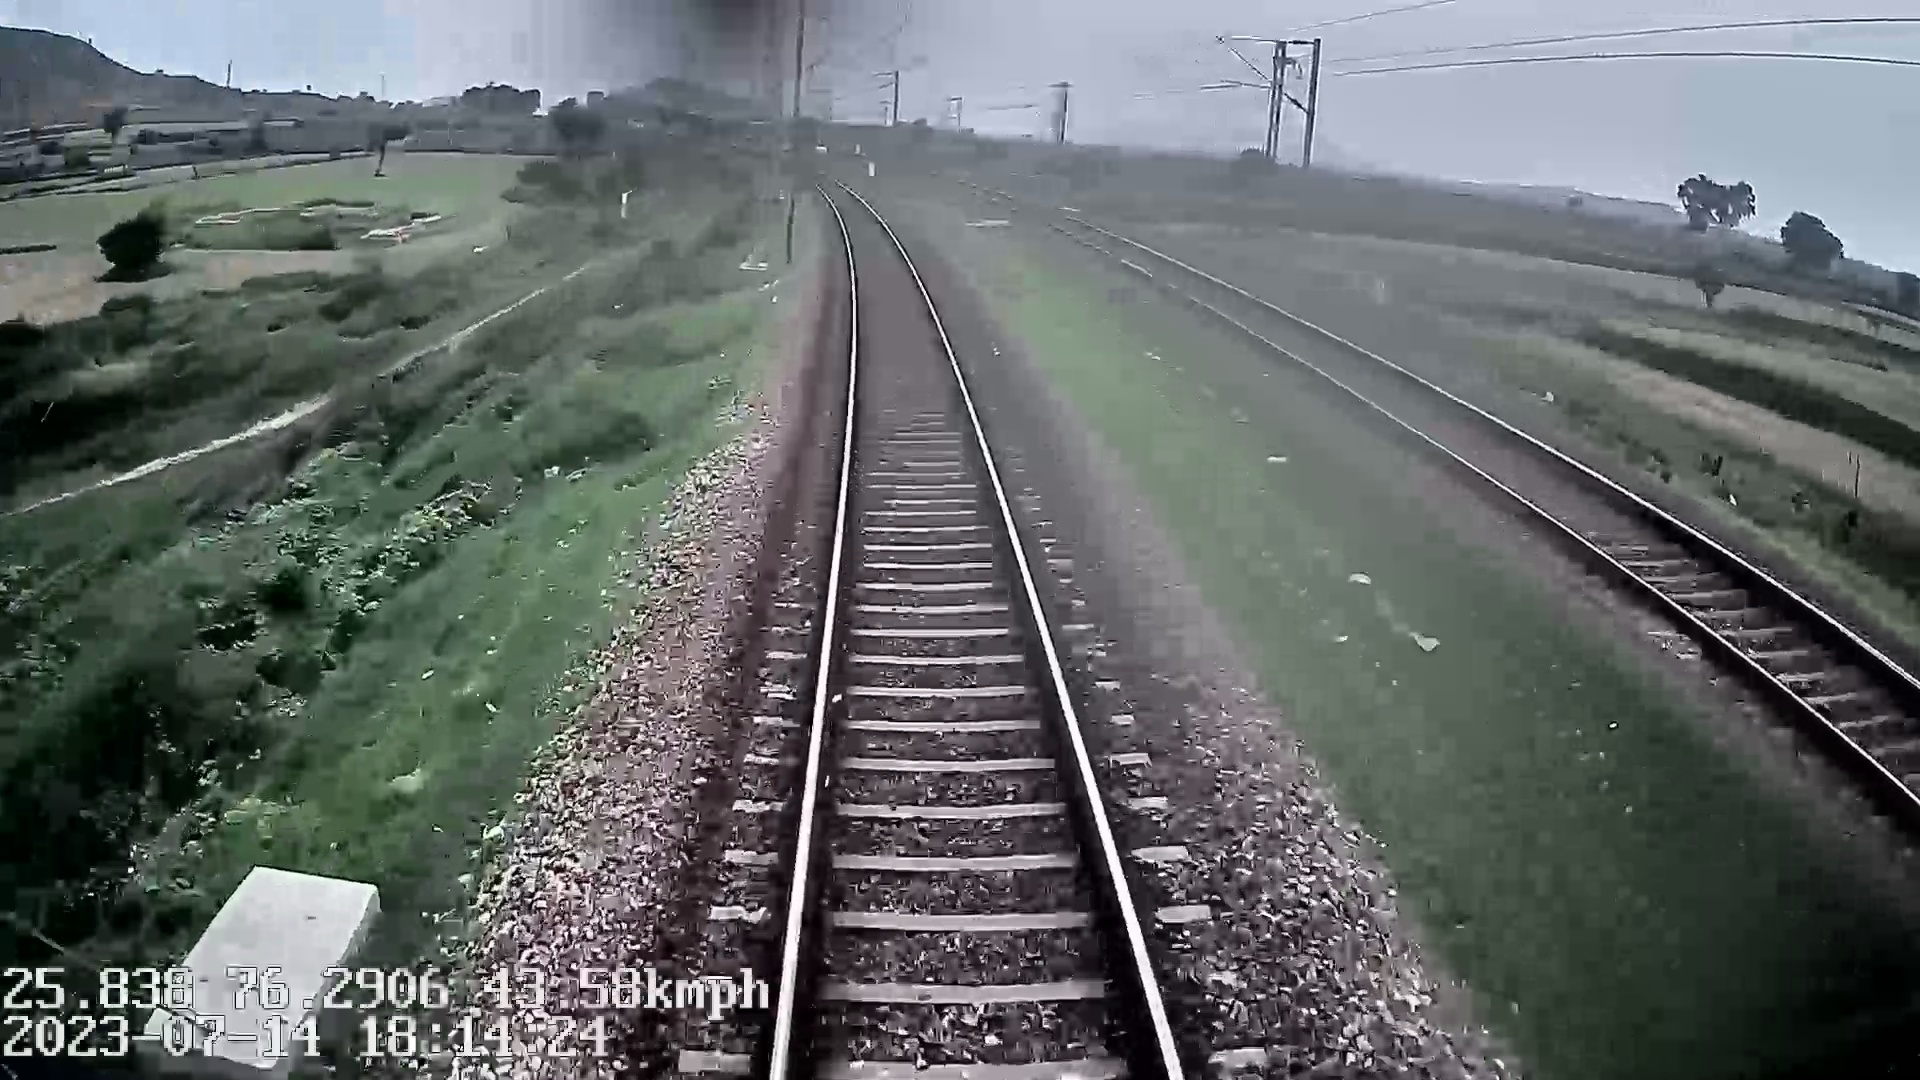track1: (781, 187, 1166, 1044)
track2: (1117, 255, 1912, 746)
